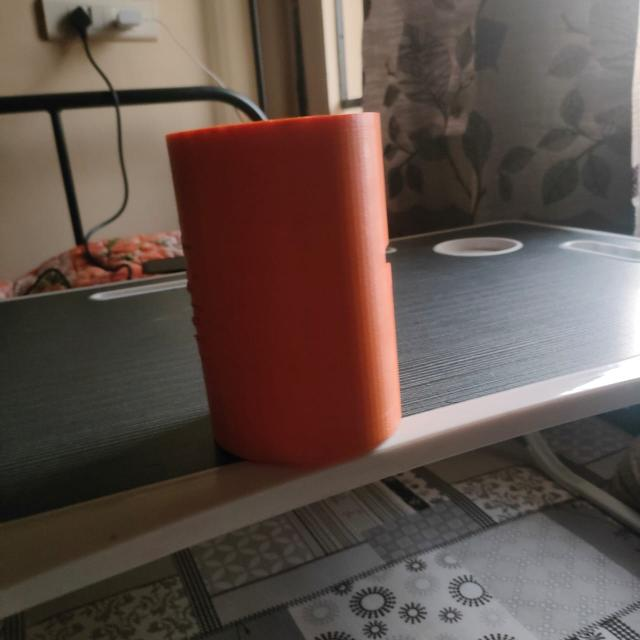Cylinder: (164, 110, 403, 467)
